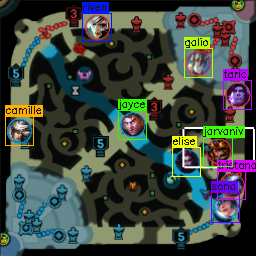camille: (7, 119, 32, 143)
elise: (175, 150, 199, 173)
galio: (185, 49, 210, 76)
jarvaniv: (205, 138, 230, 163)
jayce: (120, 112, 144, 136)
riven: (85, 15, 109, 38)
sona: (213, 195, 238, 218)
taric: (225, 81, 250, 107)
tristana: (219, 173, 243, 196)
